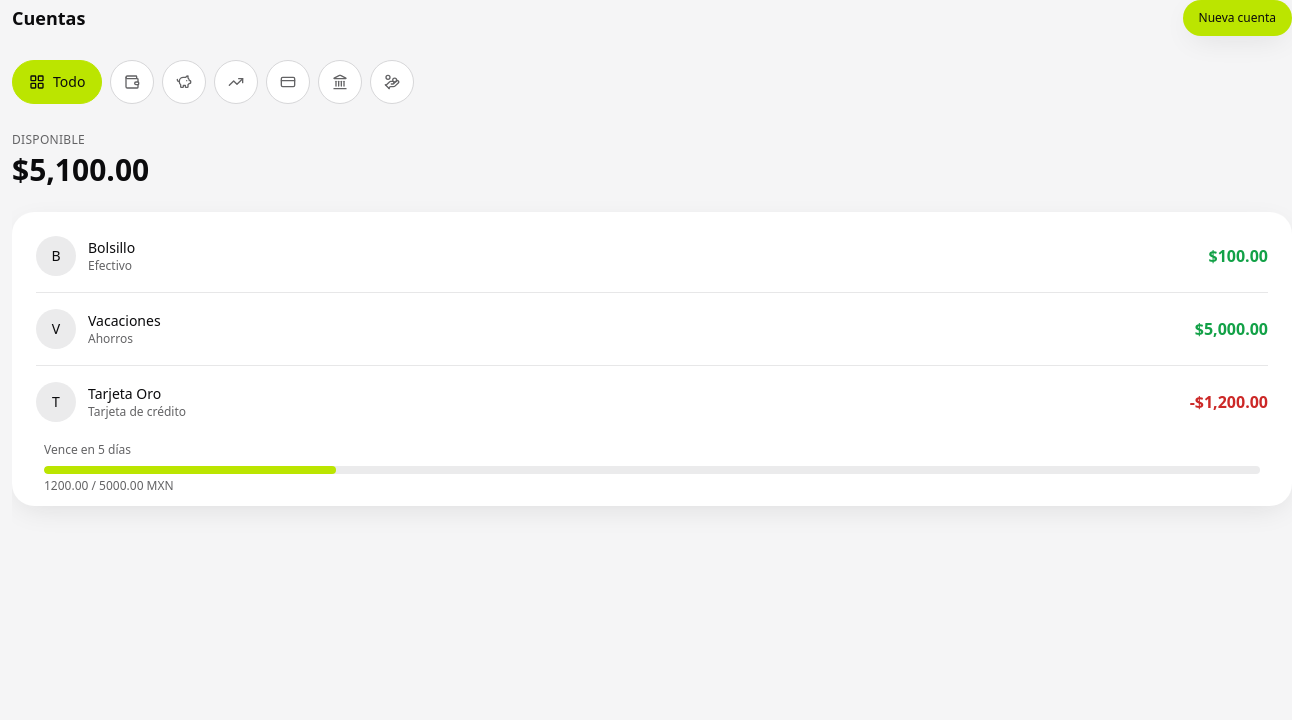
Test case: AccountsScreen — tabbed type filter › selecting Ahorros narrows the list to savings-type accounts only
Click the tab named "Ahorros" at x=184, y=82, box [162,60,206,104]
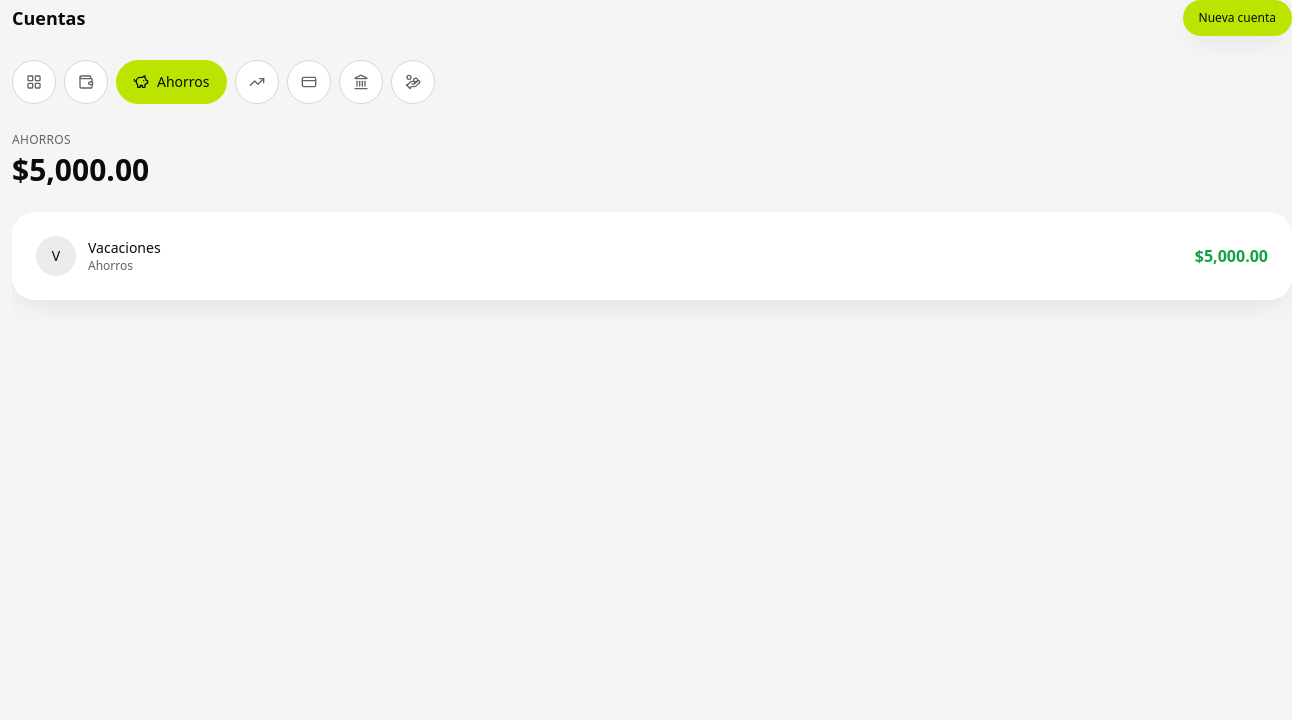
Check: the text "Vacaciones" is shown, box [88,238,161,257]
Check: the link "Bolsillo" is gone
Check: the link "Tarjeta Oro" is gone
